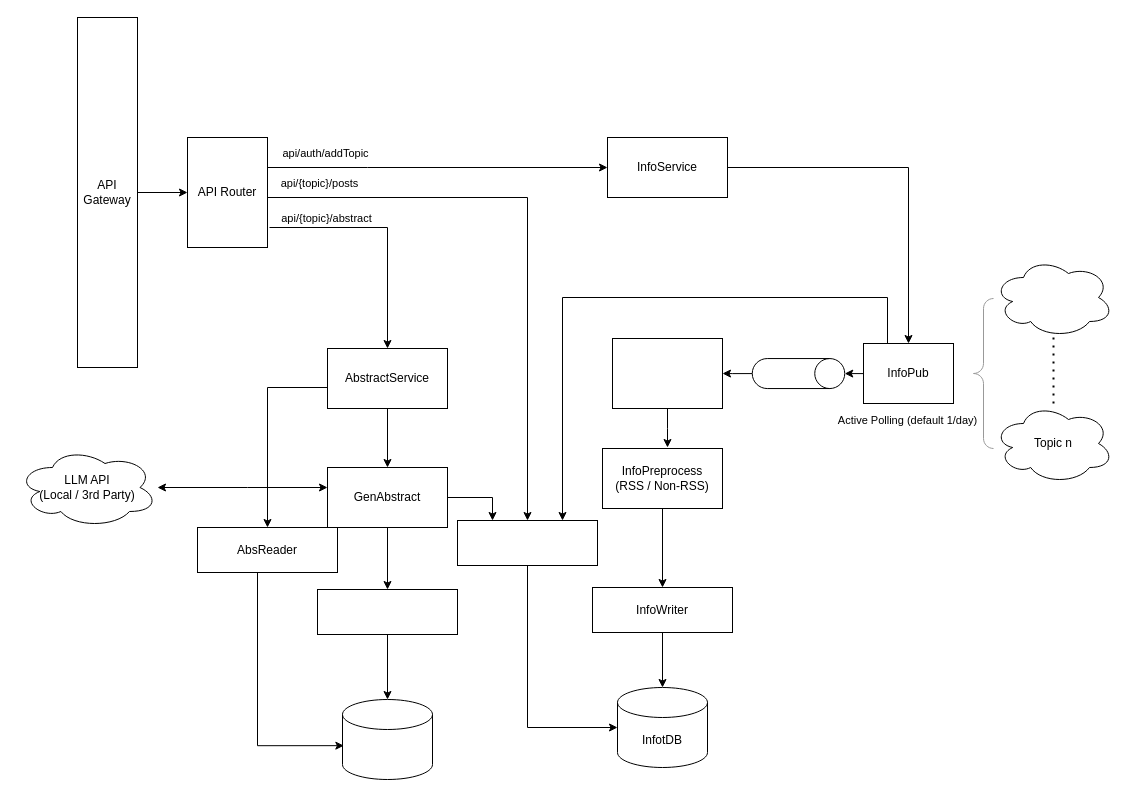
Image size: 1131x797. Some labels were removed from this diagram. The shapes that lost their labels are listed below. From the top down, each one's centre as x and y in pixels, then its label:
[1053,297]: Topic 1
[667,373]: InfoSub
[798,373]: Queue
[527,543]: InfoReader
[387,611]: AbsWriter
[387,739]: AbstractDB
